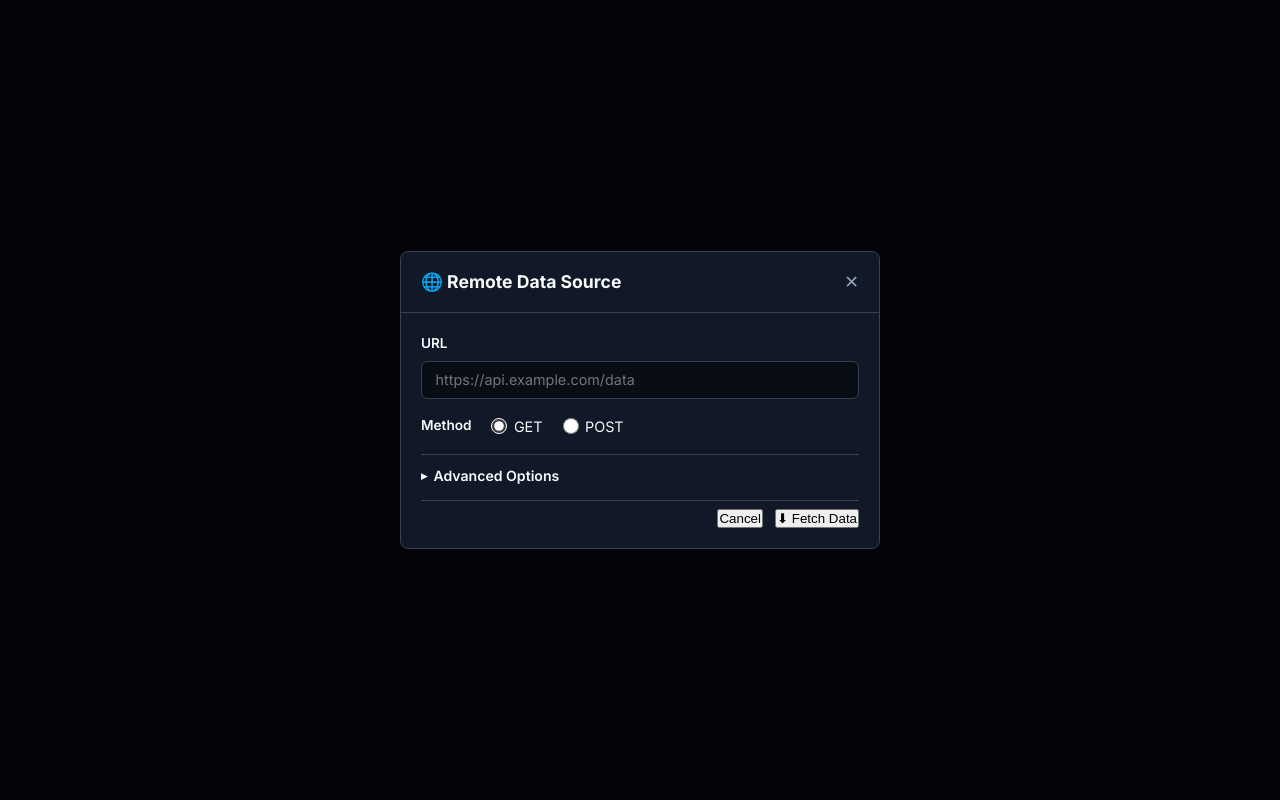
Test: RemoteSourceModal › shows validation error when URL is empty
Click the button "⬇ Fetch Data" at (817, 518), box [775, 509, 859, 528]
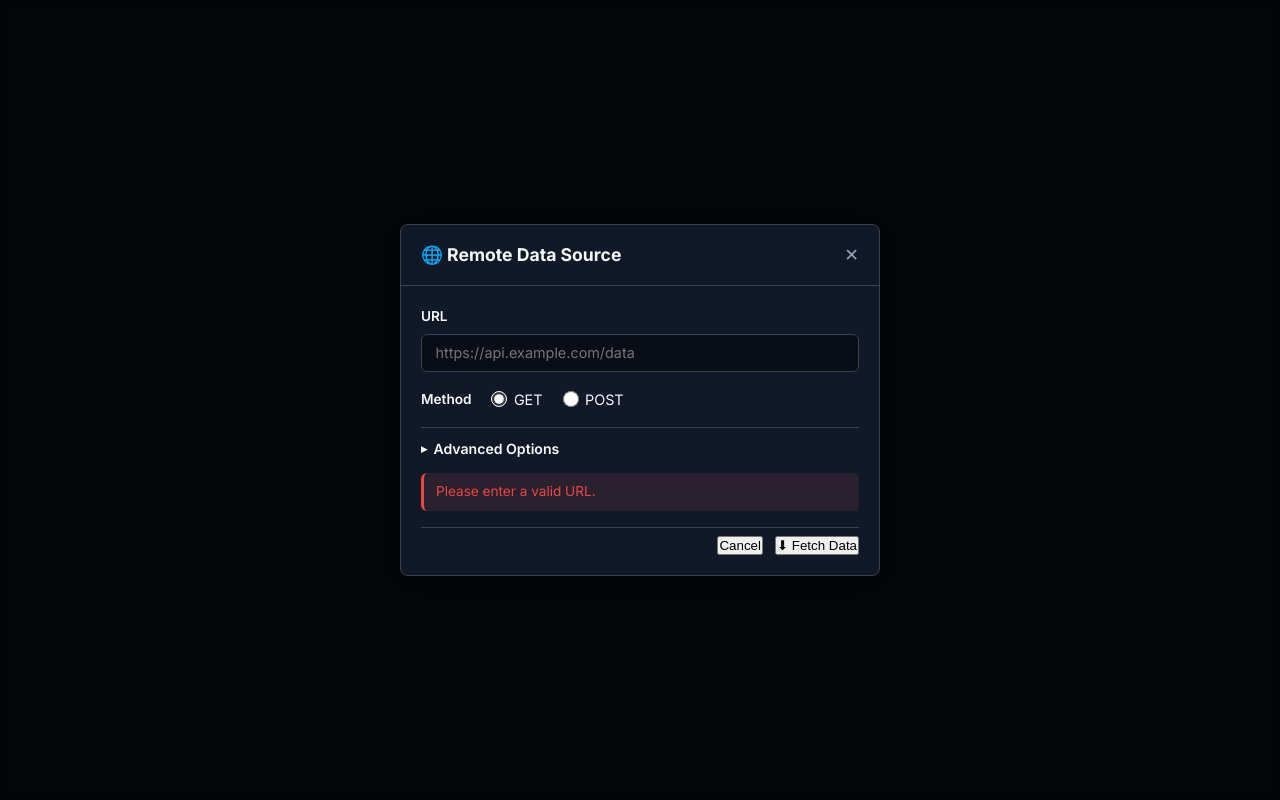
Now the message shows "enter a valid URL", box [436, 483, 596, 499]
